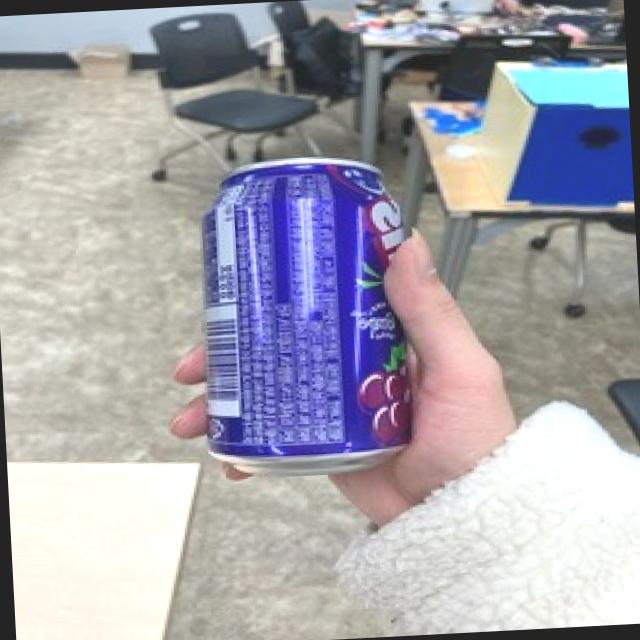can: (189, 150, 421, 488)
